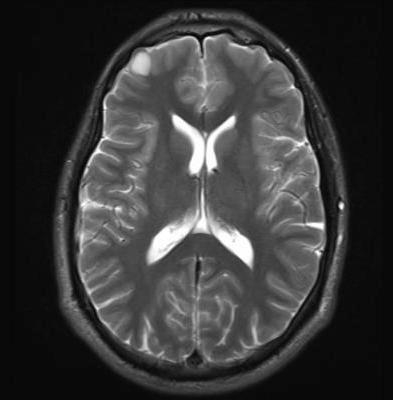Normal_Brain: (50, 1, 393, 400)
